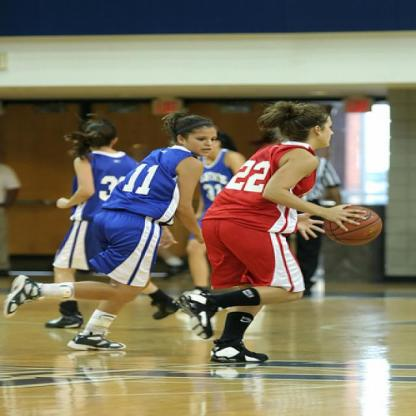basketball: (321, 205, 382, 243)
